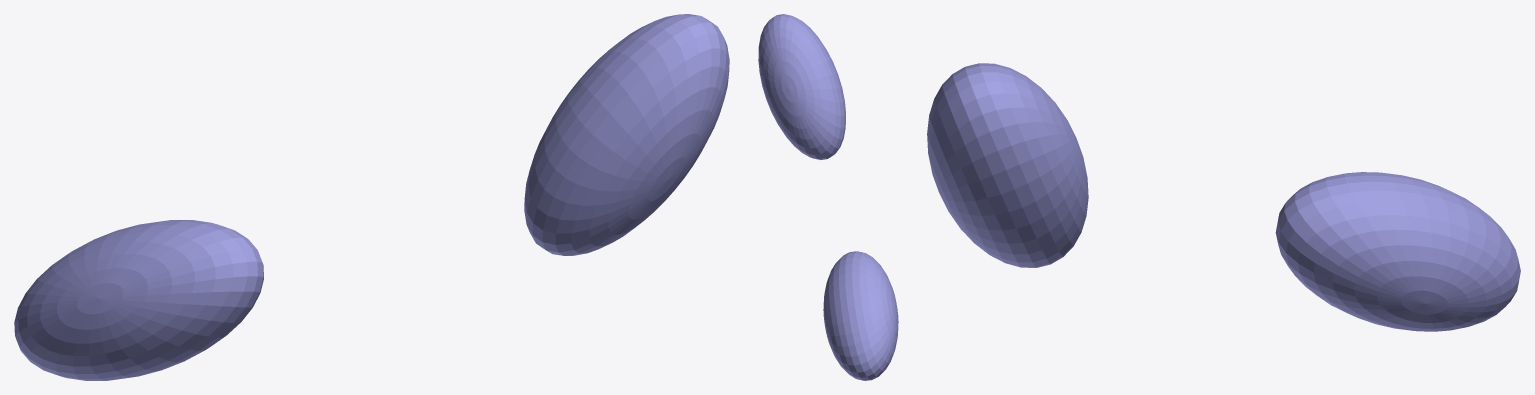
Rendered from Player03.obj.
3 renders of one model, left to right at view 1: azimuth 30°, elevation 25°; view 2: azimuth 150°, elevation 25°; view 3: azimuth 270°, elevation 25°, orthographic. The views are drawn at different scales.
Parts seen in each view (by area): view 1: 球.003, 球; view 2: 球.003, 球; view 3: 球, 球.003.
Boxes of the visible parts, x1,y1,x2,y2 form: 球.003: [524, 14, 729, 255]; 球: [14, 220, 263, 380]; 球.003: [758, 14, 845, 159]; 球: [823, 251, 898, 380]; 球: [1275, 172, 1520, 331]; 球.003: [927, 63, 1088, 267].
Bounding box in the file's own units: 2.21 × 1.93 × 2.33.
1 material, 1 textured.
